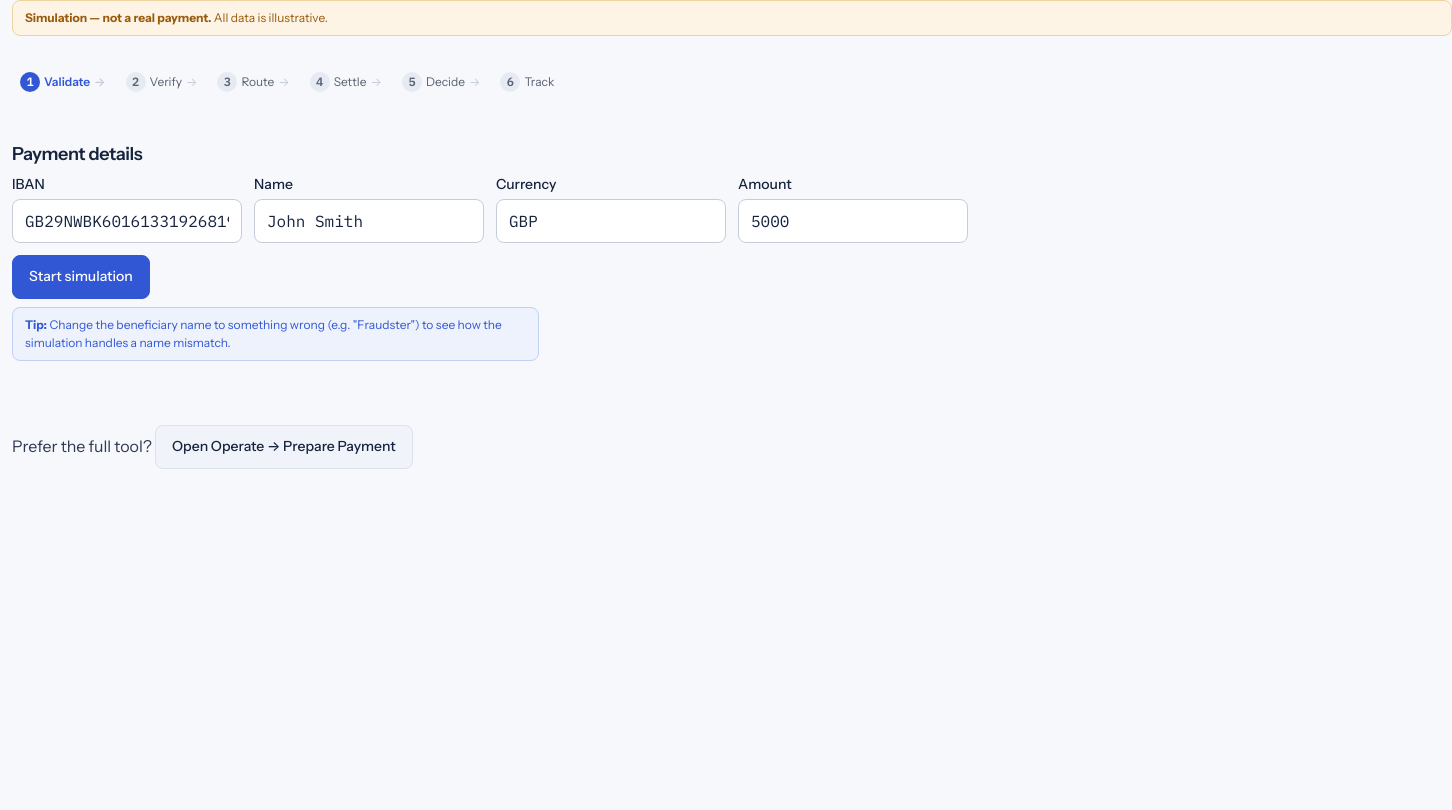
it: CapstoneContent › sends the receiving bank's name to track/create, not the payee's
The width and height of the screenshot is (1452, 810).
Step 1. Click the button "Start simulation" → (81, 277), box [12,255,150,299]
(page scrolled)
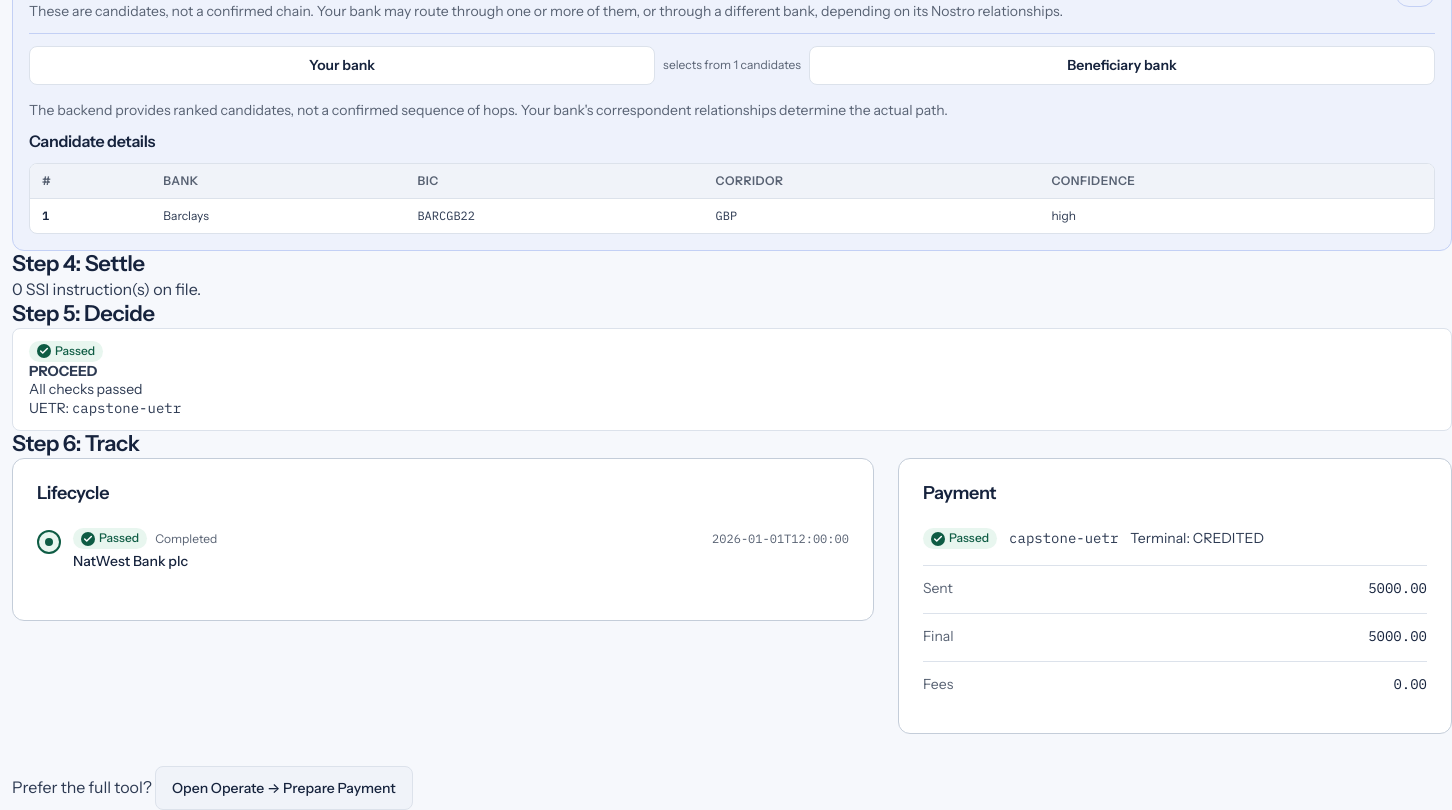
Now the text "NatWest Bank plc" is shown, box [73,552,188,570]
